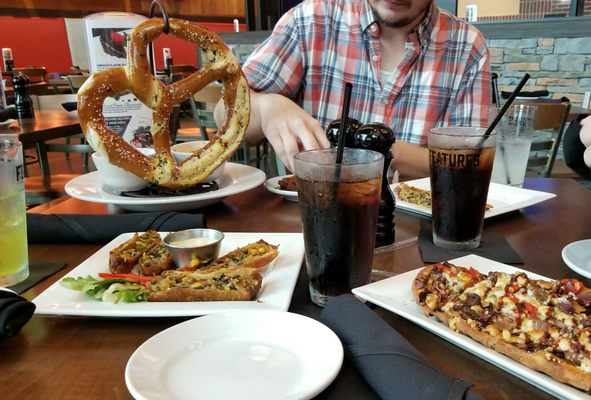pizza: (293, 147, 385, 304), (429, 124, 499, 251), (0, 130, 31, 287), (163, 228, 224, 269), (497, 120, 533, 187)
sushi: (125, 307, 350, 397)
